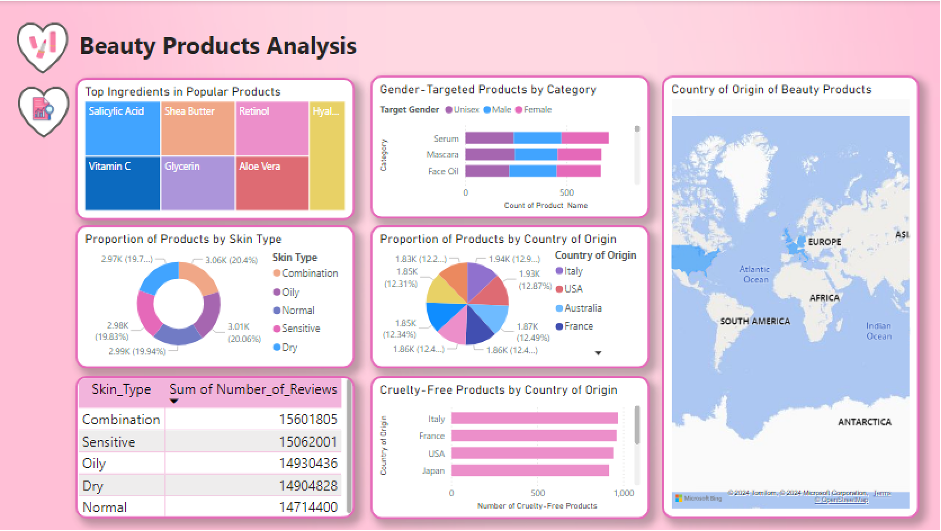

What the dashboard file says about the page in this screenshot:
{"tool":"powerbi","page":{"name":"Page 1","canvas":[1280,720],"ordinal":0},"visuals":[{"type":"barChart","title":"Gender-Targeted Products by Category","fields":{"Category":["most_used_beauty_cosmetics_products_extended.Category"],"Series":["most_used_beauty_cosmetics_products_extended.Gender_Target"],"Y":["CountNonNull(most_used_beauty_cosmetics_products_extended.Product_Name)"]},"box":[503.8,101.2,380,195],"z":0},{"type":"treemap","title":"Top Ingredients in Popular Products","fields":{"Group":["most_used_beauty_cosmetics_products_extended.Main_Ingredient"],"Values":["Sum(most_used_beauty_cosmetics_products_extended.Number_of_Reviews)"]},"box":[103,104,380,194],"z":1000},{"type":"donutChart","title":"Proportion of Products by Skin Type","fields":{"Category":["most_used_beauty_cosmetics_products_extended.Skin_Type"],"Y":["CountNonNull(most_used_beauty_cosmetics_products_extended.Product_Name)"]},"box":[103,305,380,195],"z":2000},{"type":"tableEx","title":"Proportion of Reviews by Skin Type","fields":{"Values":["most_used_beauty_cosmetics_products_extended.Skin_Type","Sum(beauty_products.Number_of_Reviews)"]},"box":[102,509.9,379.7,194],"z":3000},{"type":"textbox","box":[103.3,31.7,398.3,61.7],"z":4000},{"type":"actionButton","box":[23.8,116.2,70,70],"z":5000},{"type":"actionButton","box":[23.3,28.3,70,70],"z":6000},{"type":"pieChart","title":"Proportion of Products by Country of Origin","fields":{"Category":["most_used_beauty_cosmetics_products_extended.Country_of_Origin"],"Y":["CountNonNull(most_used_beauty_cosmetics_products_extended.Product_Name)"]},"box":[504,305,380,195],"z":7000},{"type":"clusteredBarChart","title":"Cruelty-Free Products by Country of Origin","fields":{"Category":["most_used_beauty_cosmetics_products_extended.Country_of_Origin"],"Y":["CountNonNull(most_used_beauty_cosmetics_products_extended.Cruelty_Free)"]},"box":[503.8,510,380,195],"z":8000},{"type":"filledMap","title":"Country of Origin of Beauty Products","fields":{"Category":["most_used_beauty_cosmetics_products_extended.Country_of_Origin"]},"box":[900,101.7,350,603.3],"z":9000}]}

Visuals, with their boxes in screenshot pixels (x1, y1, x2, y2), scaled from the page's 1280x720 canvas onto the 941x531 screenshot:
"Gender-Targeted Products by Category" barChart: [x1=370, y1=75, x2=650, y2=218]
"Top Ingredients in Popular Products" treemap: [x1=76, y1=77, x2=355, y2=220]
"Proportion of Products by Skin Type" donutChart: [x1=76, y1=225, x2=355, y2=369]
"Proportion of Reviews by Skin Type" tableEx: [x1=75, y1=376, x2=354, y2=519]
textbox: [x1=76, y1=23, x2=369, y2=69]
actionButton: [x1=17, y1=86, x2=69, y2=137]
actionButton: [x1=17, y1=21, x2=69, y2=72]
"Proportion of Products by Country of Origin" pieChart: [x1=371, y1=225, x2=650, y2=369]
"Cruelty-Free Products by Country of Origin" clusteredBarChart: [x1=370, y1=376, x2=650, y2=520]
"Country of Origin of Beauty Products" filledMap: [x1=662, y1=75, x2=919, y2=520]
